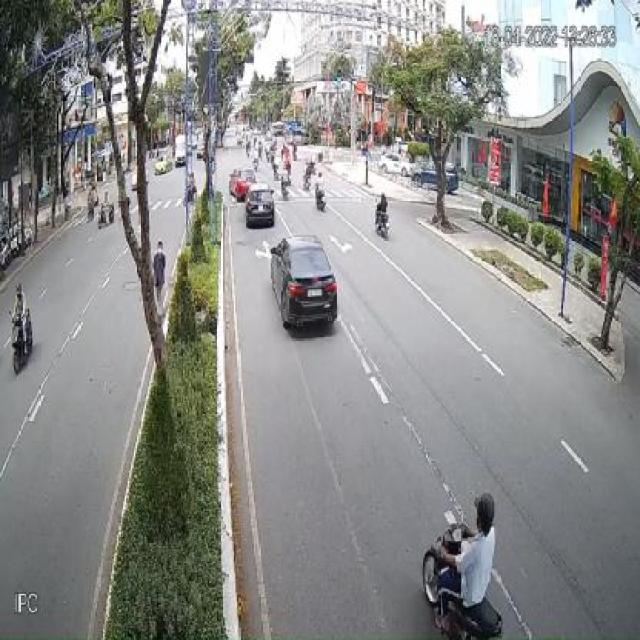car: (270, 236, 338, 338), (245, 184, 275, 228), (231, 168, 254, 200)
motorbike: (420, 493, 496, 635), (10, 281, 33, 371), (373, 192, 389, 240), (89, 187, 99, 221), (315, 182, 326, 212)
